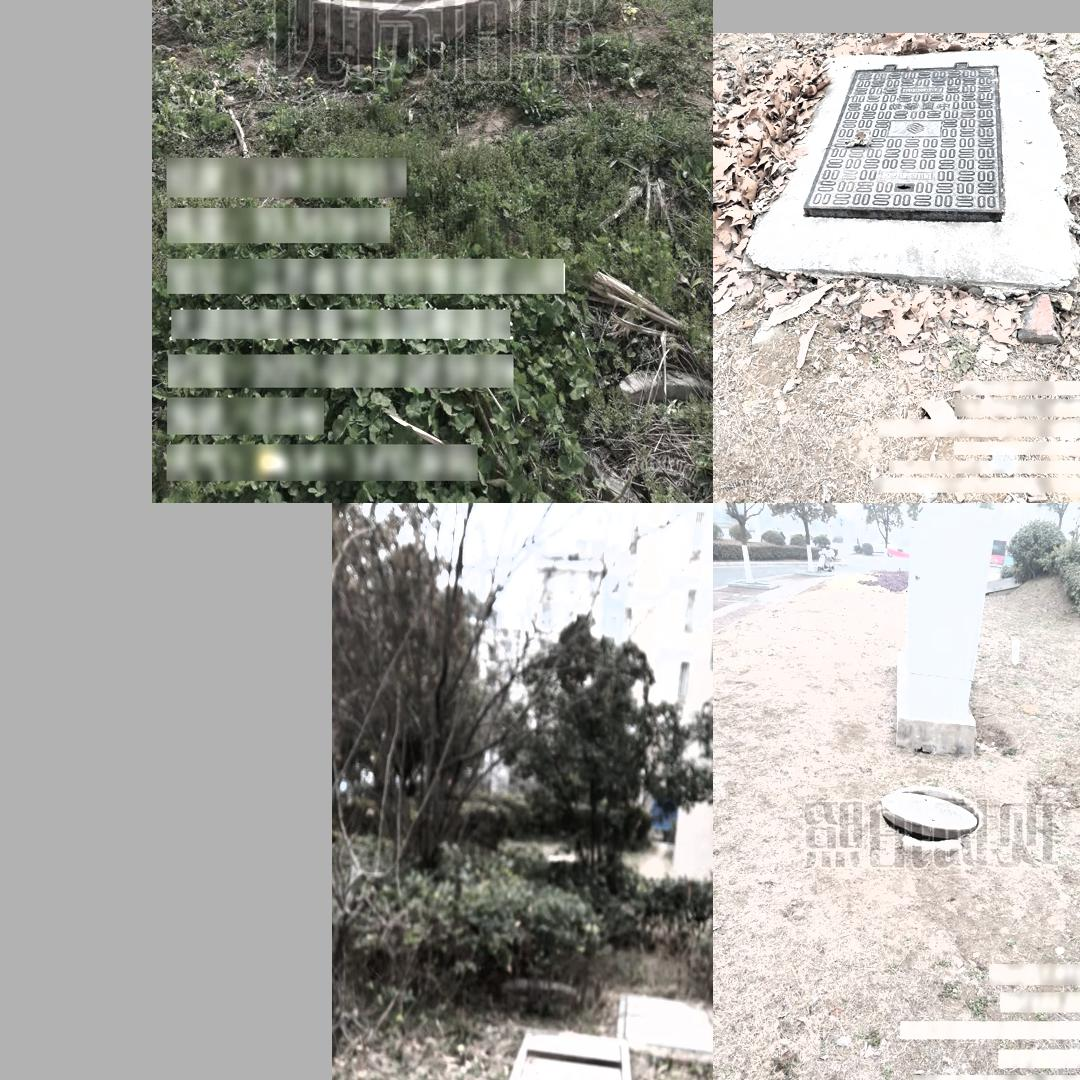good: (615, 986, 713, 1068)
uncovered: (801, 61, 1006, 224), (504, 1025, 634, 1080), (878, 783, 981, 843)
